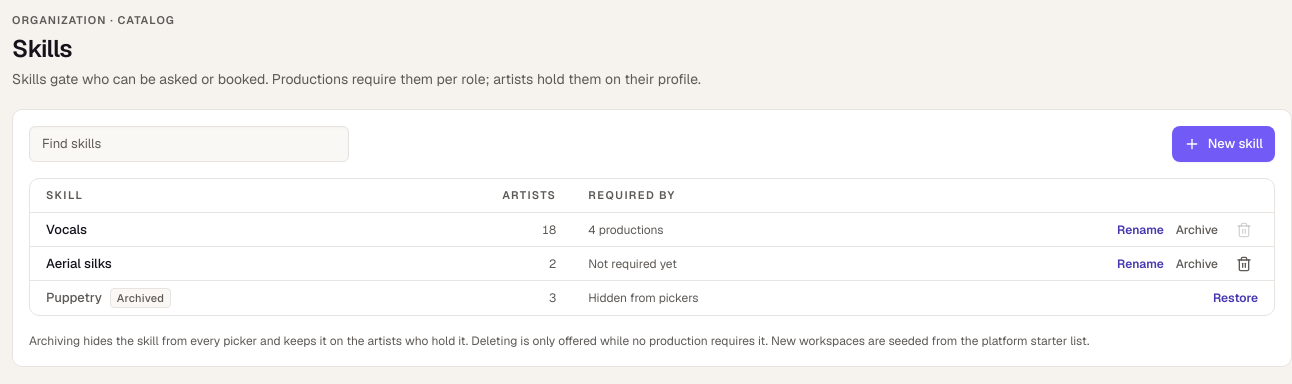
Test: SkillsTab › Find a skill filters the table by name client-side
This screenshot has width=1292, height=384.
Expected: the row with test id "skill-row-skill-1" is shown, [30,212,1274,246]
Expected: the row with test id "skill-row-skill-2" is shown, [30,246,1274,280]
Type "vocal" into the field with placeholder "Find skills" at (189, 144), box [29,126,349,162]
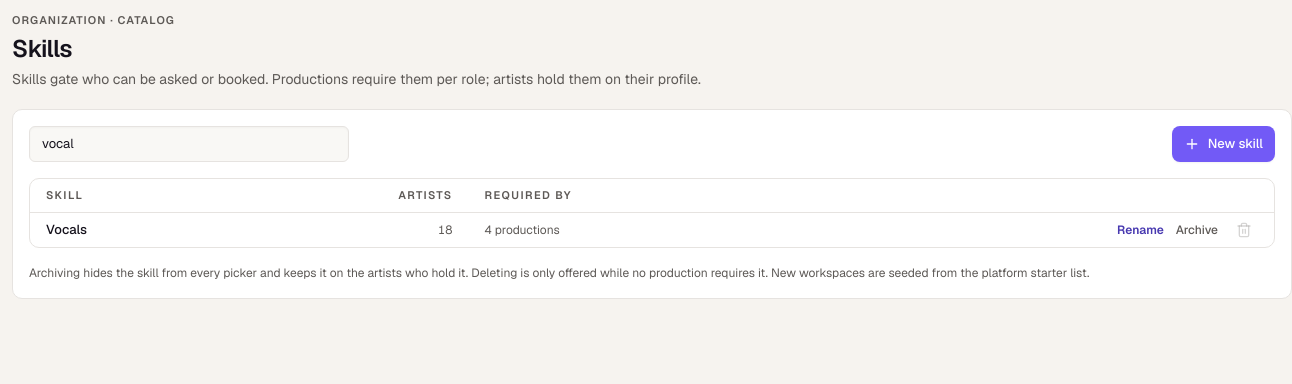
Expected: the row with test id "skill-row-skill-1" is shown, [30,212,1274,246]
Expected: the row with test id "skill-row-skill-2" is gone
Expected: the row with test id "skill-row-skill-3" is gone
